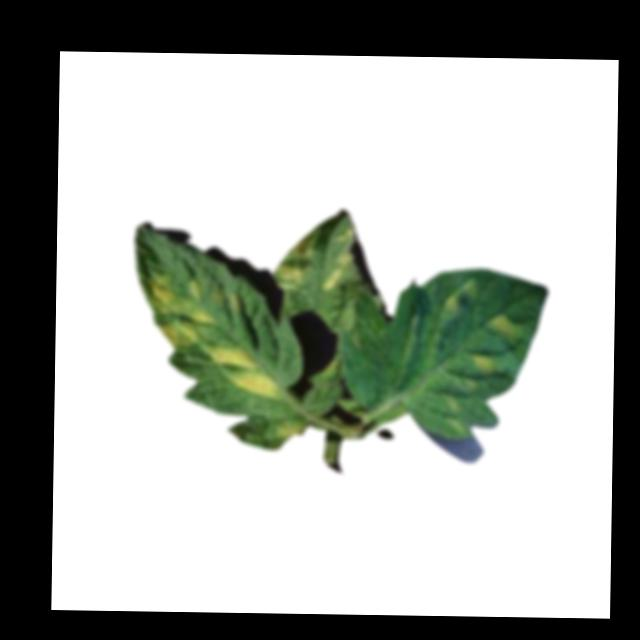Leaf_Mold: (151, 264, 221, 348), (210, 343, 285, 397), (272, 231, 317, 290), (322, 229, 355, 293), (273, 417, 307, 441), (488, 312, 519, 338), (441, 290, 464, 316), (474, 352, 498, 376)
